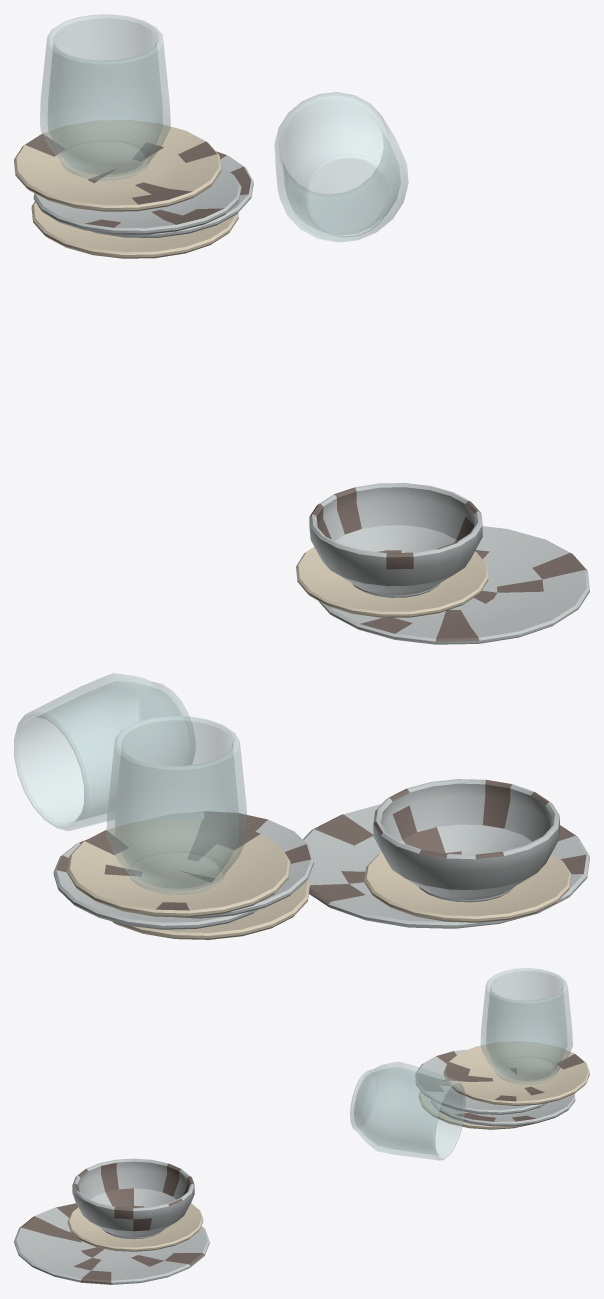
File: Dirty_Dishes.fbx
The picture shows the model from 3 angles, top to bottom: view 1: azimuth 30°, elevation 25°; view 2: azimuth 150°, elevation 25°; view 3: azimuth 270°, elevation 25°; orthographic projection. The views are drawn at different scales.
Visible parts, largest first — view 1: cups_in_sink; view 2: cups_in_sink; view 3: cups_in_sink.
Part boxes in pixels (left/top/right/bottom): cups_in_sink: left=14, top=14, right=589, bottom=644; cups_in_sink: left=14, top=673, right=589, bottom=939; cups_in_sink: left=14, top=968, right=589, bottom=1284.
Size of the model in its own units: 0.9298 by 1.04 by 2.18.
